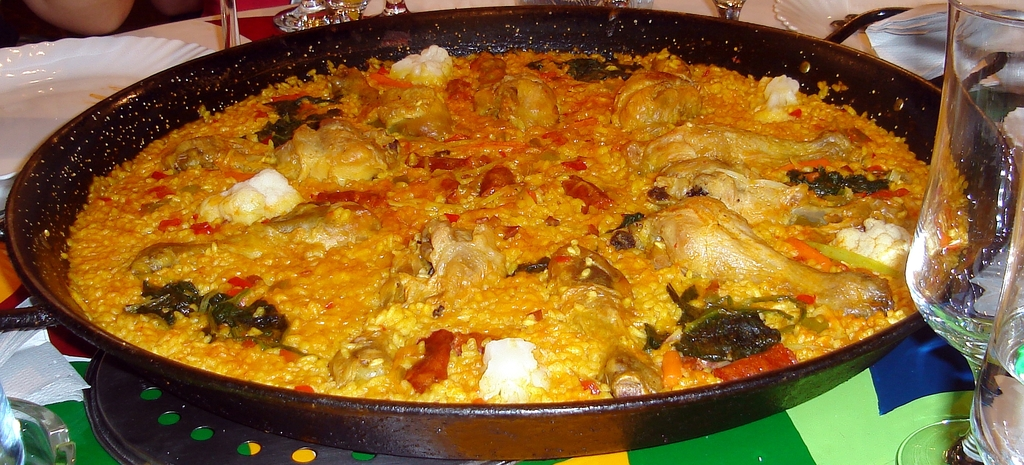person: (0, 0, 218, 49)
